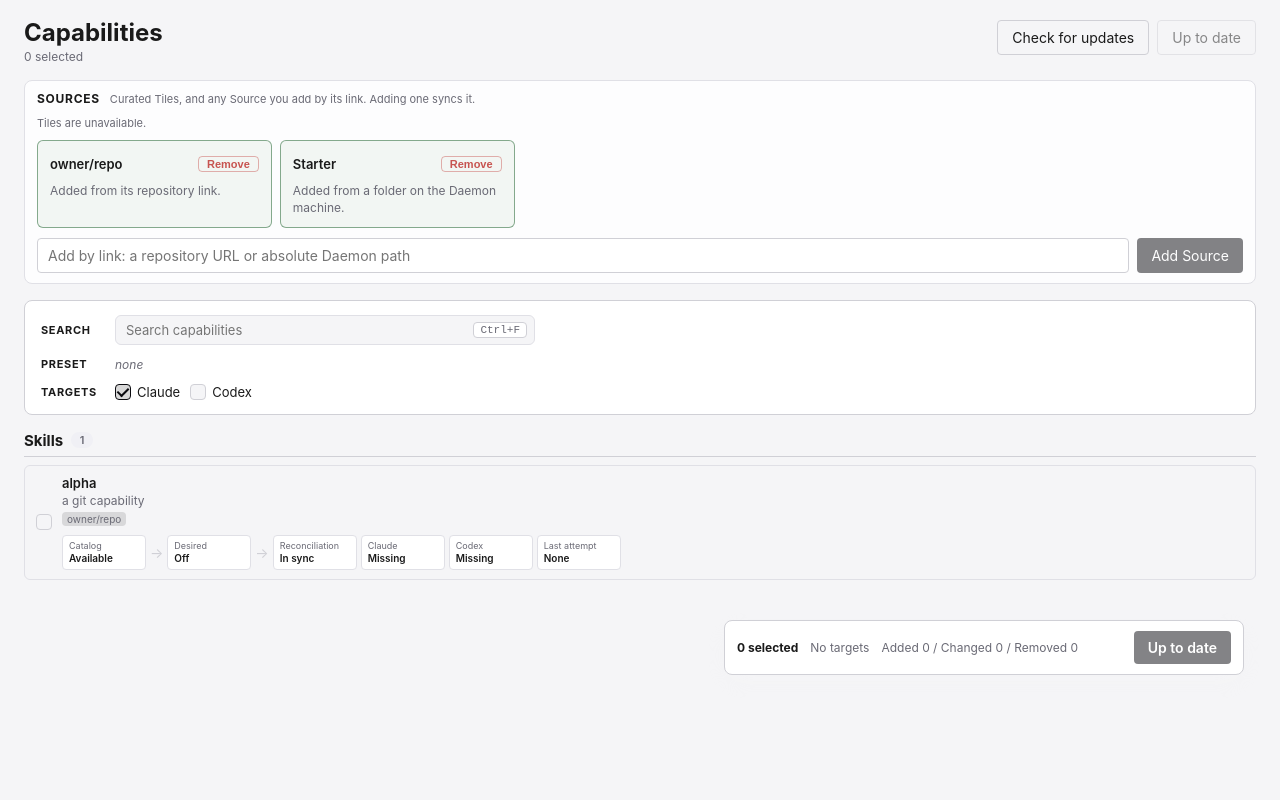
Test: KitDeployPage — action feedback toasts › a sync result with a failed Source shows an ERROR toast (failure dominates a mixed result)
Click the button with test id "kit-check-updates": point(1073, 38) [997,20,1149,55]
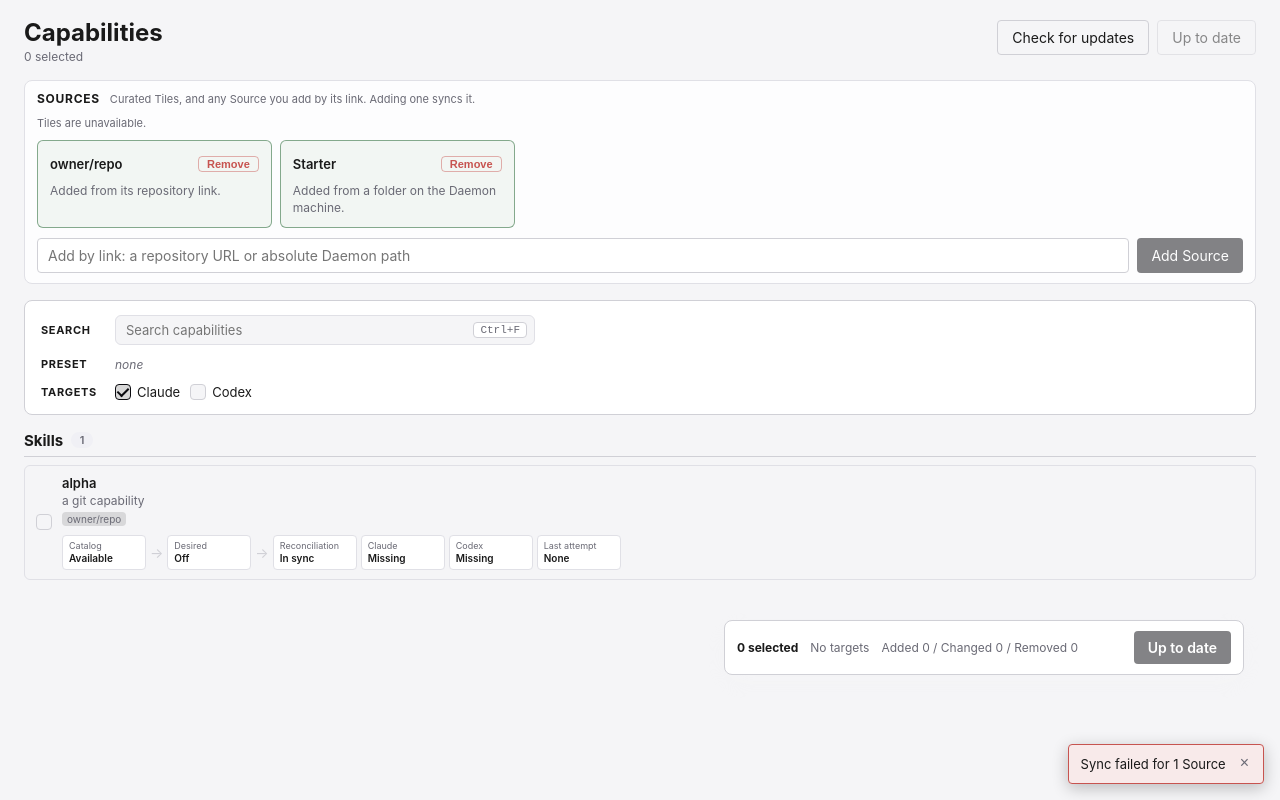
Expected: the text "Sync failed for 1 Source" is shown, [1081,755,1226,773]
Expected: the text with test id "toast-error" shows "1", [1081,756,1226,772]
